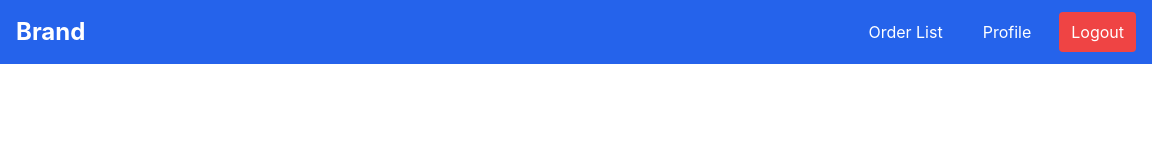
Navbar › clears session and navigates to login on logout
Step 1. Click the button "Logout" → [1098, 32], box left=1059, top=12, right=1136, bottom=52
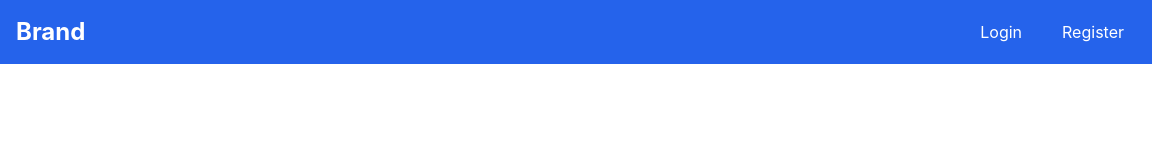
Result: the link "Login" is shown at left=980, top=22, right=1022, bottom=42
Result: the link "Order List" is gone
